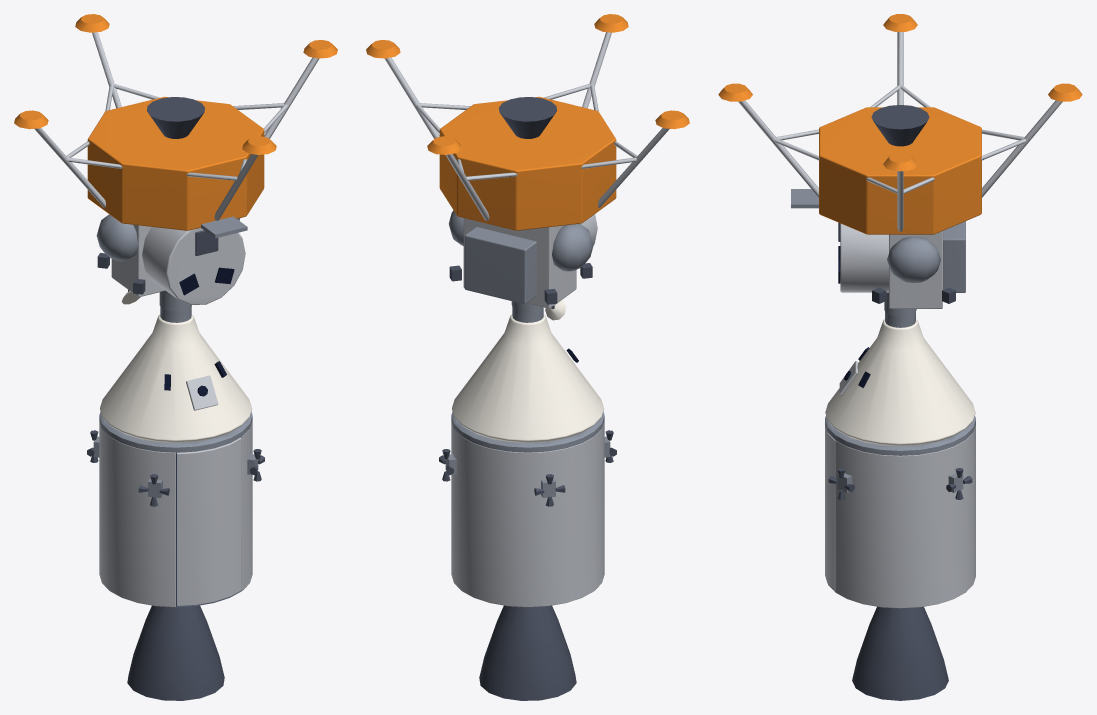
Rendered from Ship_Stack.fbx.
3 renders of one model, left to right at view 1: azimuth 30°, elevation 25°; view 2: azimuth 150°, elevation 25°; view 3: azimuth 270°, elevation 25°, orthographic.
Visible parts, largest first — view 1: Ship_LM.Descent, Ship_SM.Skin, Ship_CM.Cone, Ship_SM.Move_Panel4, Ship_SM.Nozzle, Ship_LM.Cabin, Ship_LM.Legs, Ship_LM.Pads, Ship_LM.DescentNozzle, Ship_SM.TopRing, Ship_LM.Tank1, Ship_LM.Mid (+2 smaller); view 2: Ship_SM.Skin, Ship_LM.Descent, Ship_CM.Cone, Ship_SM.Nozzle, Ship_LM.AftBay, Ship_LM.Legs, Ship_LM.Mid, Ship_LM.Pads, Ship_LM.DescentNozzle, Ship_SM.TopRing, Ship_LM.Tank1, Ship_LM.Jets; view 3: Ship_SM.Skin, Ship_LM.Descent, Ship_CM.Cone, Ship_SM.Nozzle, Ship_LM.Legs, Ship_LM.Cabin, Ship_LM.Mid, Ship_LM.Pads, Ship_LM.Tank0, Ship_LM.DescentNozzle, Ship_SM.TopRing, Ship_SM.Move_Panel4 (+1 smaller).
Boxes of the visible parts, <box> form: Ship_LM.Descent: <box>87,96,264,230</box>; Ship_SM.Skin: <box>99,421,252,607</box>; Ship_CM.Cone: <box>100,314,251,442</box>; Ship_SM.Move_Panel4: <box>176,437,241,606</box>; Ship_SM.Nozzle: <box>127,605,224,700</box>; Ship_LM.Cabin: <box>142,227,245,304</box>; Ship_LM.Legs: <box>34,32,318,220</box>; Ship_LM.Pads: <box>14,14,337,154</box>; Ship_LM.DescentNozzle: <box>147,97,204,138</box>; Ship_SM.TopRing: <box>99,412,252,452</box>; Ship_LM.Tank1: <box>96,214,138,261</box>; Ship_LM.Mid: <box>111,224,165,296</box>; Ship_SM.Skin: <box>451,421,604,607</box>; Ship_LM.Descent: <box>439,96,616,230</box>; Ship_CM.Cone: <box>452,314,603,442</box>; Ship_SM.Nozzle: <box>479,605,576,700</box>; Ship_LM.AftBay: <box>464,227,536,304</box>; Ship_LM.Legs: <box>385,32,669,220</box>; Ship_LM.Mid: <box>463,218,576,308</box>; Ship_LM.Pads: <box>366,14,689,154</box>; Ship_LM.DescentNozzle: <box>499,97,556,138</box>; Ship_SM.TopRing: <box>451,412,604,452</box>; Ship_LM.Tank1: <box>552,223,593,271</box>; Ship_LM.Jets: <box>449,263,592,304</box>; Ship_SM.Skin: <box>835,425,975,608</box>; Ship_LM.Descent: <box>819,107,981,234</box>; Ship_CM.Cone: <box>825,319,975,446</box>; Ship_SM.Nozzle: <box>852,606,948,700</box>; Ship_LM.Legs: <box>738,32,1062,231</box>; Ship_LM.Cabin: <box>840,223,888,292</box>; Ship_LM.Mid: <box>889,231,942,308</box>; Ship_LM.Pads: <box>718,14,1082,171</box>; Ship_LM.Tank0: <box>887,237,940,282</box>; Ship_LM.DescentNozzle: <box>871,105,929,146</box>; Ship_SM.TopRing: <box>825,415,975,455</box>; Ship_SM.Move_Panel4: <box>825,425,835,590</box>.
Bounding box in the file's own units: 9.36 × 16.85 × 9.4.
Materials: 1 (1 with a texture image).
